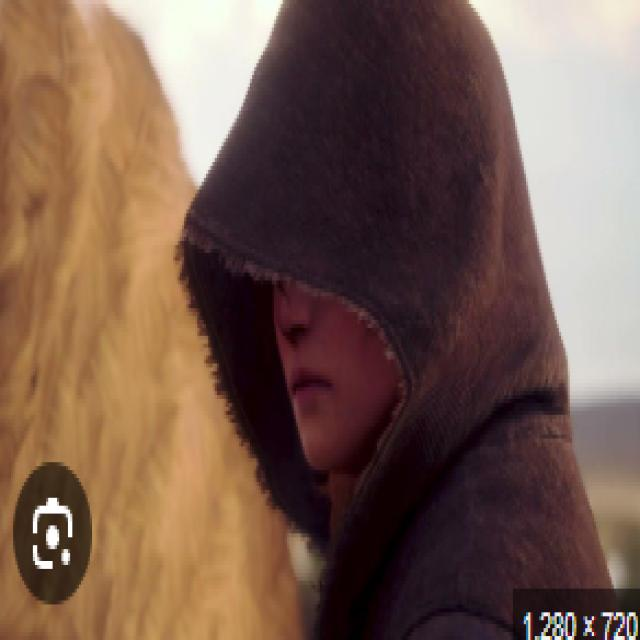4_capucha: (177, 0, 570, 584)
